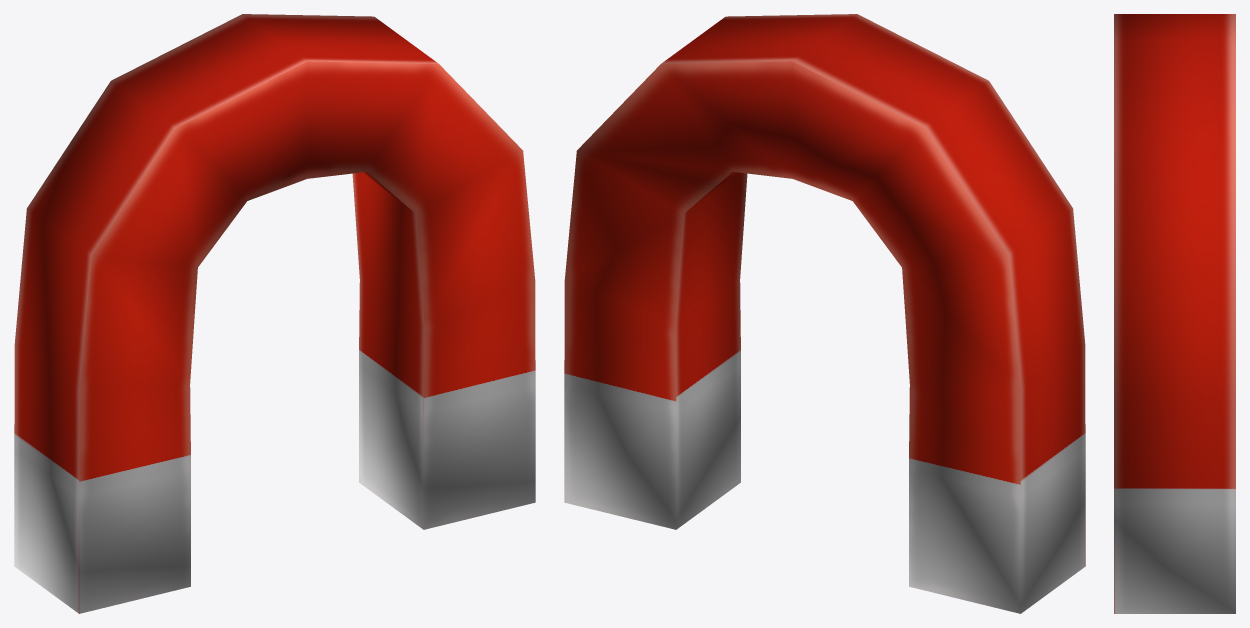
Rendered from item-Magnetic.fbx.
3 renders of one model, left to right at view 1: azimuth 30°, elevation 25°; view 2: azimuth 150°, elevation 25°; view 3: azimuth 270°, elevation 25°, orthographic. The views are drawn at different scales.
Visible parts, largest first — view 1: Cube; view 2: Cube; view 3: Cube.
Part boxes in pixels (bbox=[...]): Cube: bbox=[14, 14, 535, 613]; Cube: bbox=[564, 14, 1085, 613]; Cube: bbox=[1114, 14, 1235, 613].
Bounding box in the file's own units: 418 × 435 × 103.
